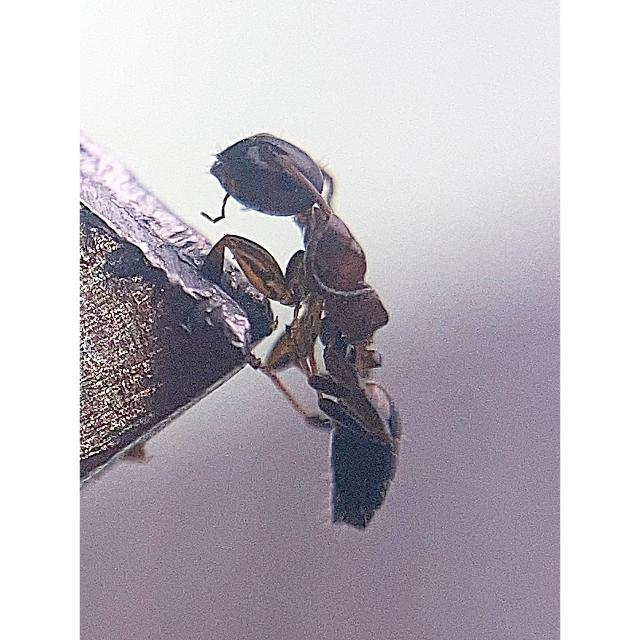Colobopsis: (196, 90, 440, 580)
